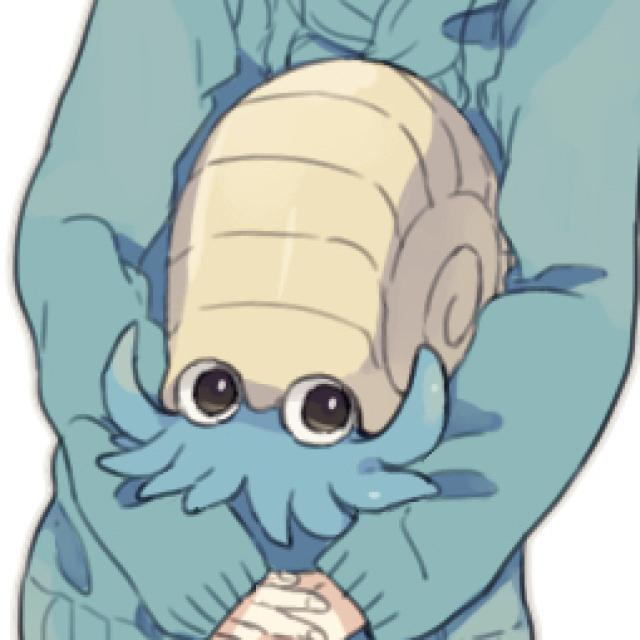Omanyte: (122, 51, 509, 511)
